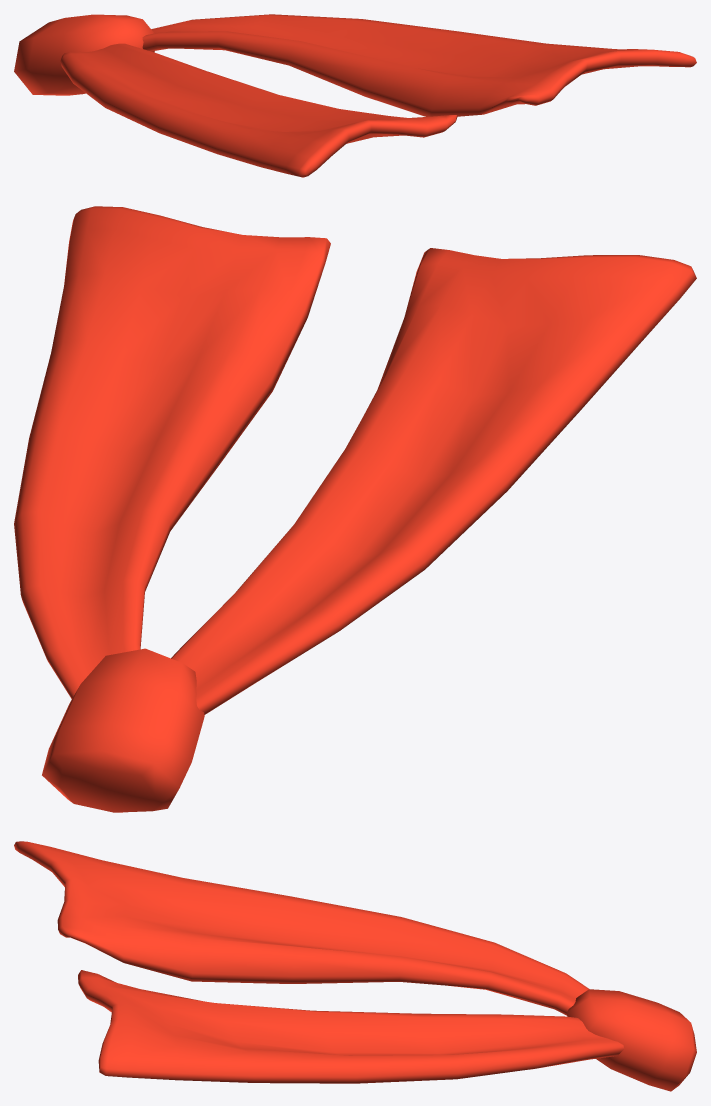
Rendered from reimu_bow_2.glb.
3 renders of one model, top to bottom at view 1: azimuth 30°, elevation 25°; view 2: azimuth 150°, elevation 25°; view 3: azimuth 270°, elevation 25°, orthographic. The views are drawn at different scales.
Visible parts, largest first — view 1: reimu_bow_2; view 2: reimu_bow_2; view 3: reimu_bow_2.
Part boxes in pixels (left/top/right/bottom): reimu_bow_2: left=14, top=14, right=696, bottom=177; reimu_bow_2: left=14, top=206, right=696, bottom=812; reimu_bow_2: left=14, top=841, right=696, bottom=1091.
Bounding box in the file's own units: 1.21 × 0.5547 × 1.72.
